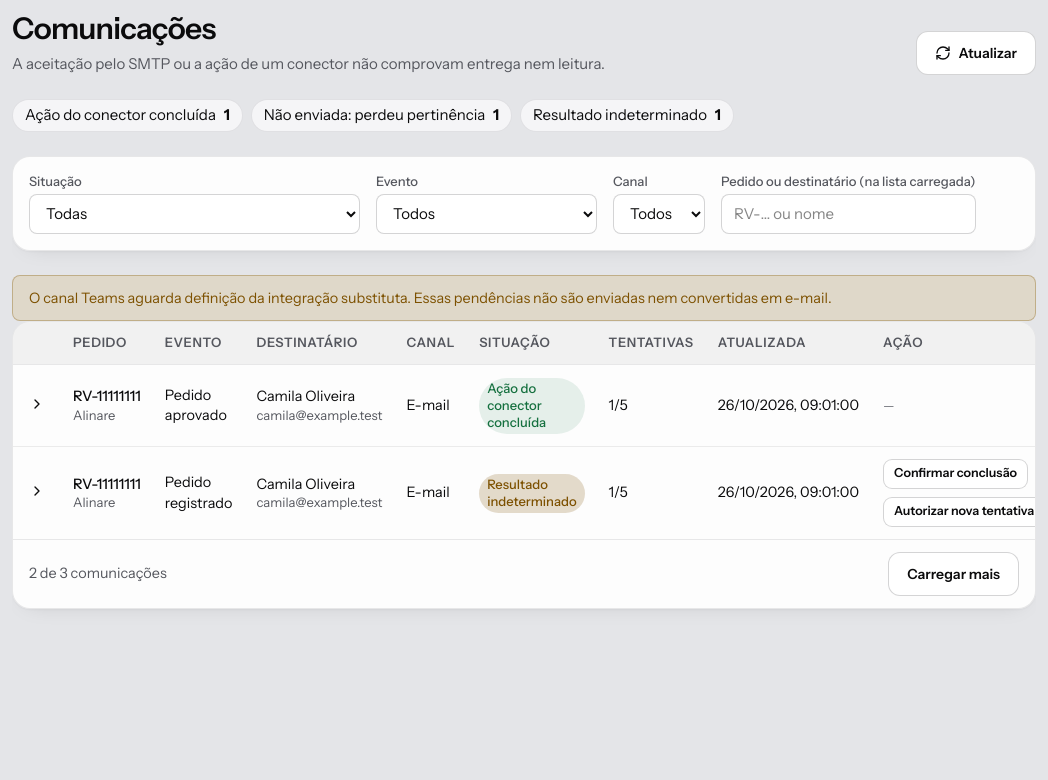
Test: ComunicacoesPage › pagina sem trocar a lista: carrega mais a partir do deslocamento atual
Expected: the table is shown, [13,322,1035,539]
Expected: the text "2 de 3 comunicações" is shown, [29,563,167,584]
Click the button "Carregar mais". click: (954,574)
box: [888,552,1019,596]
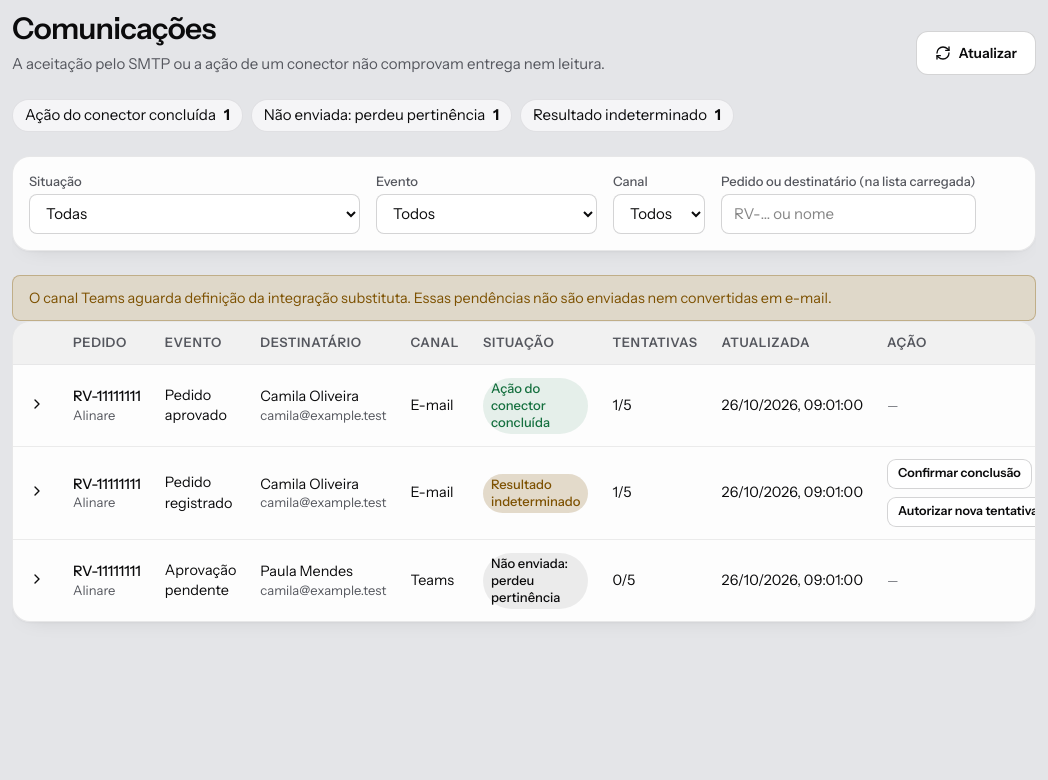
Expected: the text "Pedido registrado" is shown, [165,473,232,512]
Expected: the text "Aprovação pendente" is shown, [165,561,236,599]
